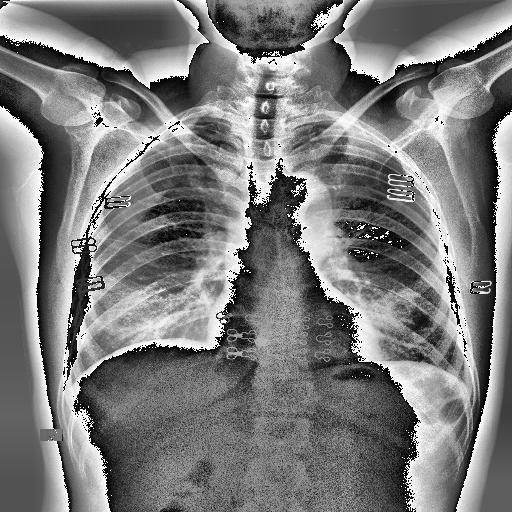0- Aortic enlargement: (274, 171, 333, 232), (274, 171, 332, 232), (274, 173, 331, 224)
11- Pleural thickening: (290, 122, 366, 133), (174, 116, 232, 125)
7- Lung Opacity: (348, 278, 421, 336), (104, 288, 176, 344)
